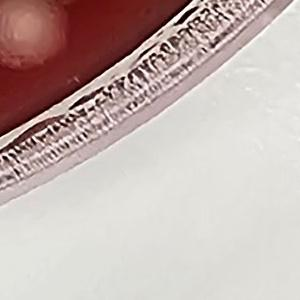colony: (0, 0, 74, 74)
